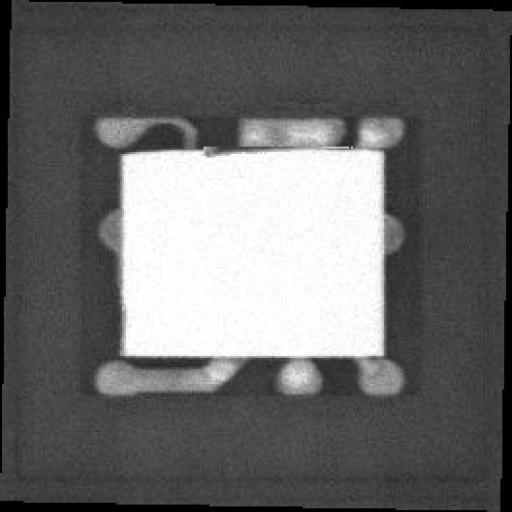DIE_BROKEN: (198, 141, 359, 158)
